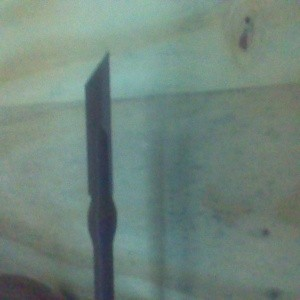cutter: (83, 50, 119, 300)
